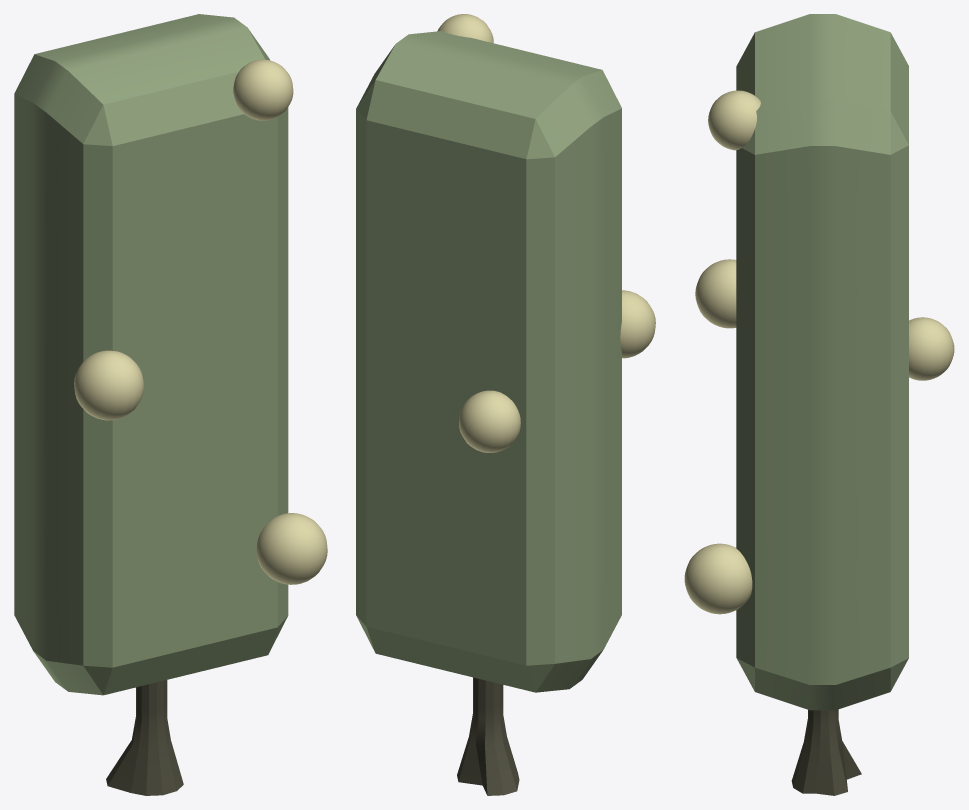
Rendered from HighTree1AppleDark.fbx.
3 renders of one model, left to right at view 1: azimuth 30°, elevation 25°; view 2: azimuth 150°, elevation 25°; view 3: azimuth 270°, elevation 25°, orthographic. The views are drawn at different scales.
Parts seen in each view (by area): view 1: pasted__pasted__Crown_Big, pasted__pasted__Bark, pSphere18, pSphere17, pSphere7; view 2: pasted__pasted__Crown_Big, pasted__pasted__Bark, pSphere16, pSphere17, pSphere7; view 3: pasted__pasted__Crown_Big, pasted__pasted__Bark, pSphere18, pSphere16, pSphere7, pSphere17.
Part boxes in pixels (x1,y1,x2,y2): pasted__pasted__Crown_Big: (14,14,288,695); pasted__pasted__Bark: (106,680,183,795); pSphere18: (256,513,327,584); pSphere17: (74,350,143,420); pSphere7: (233,59,293,120); pasted__pasted__Crown_Big: (356,31,621,692); pasted__pasted__Bark: (457,677,519,795); pSphere16: (459,390,520,452); pSphere17: (620,290,655,358); pSphere7: (437,14,493,43); pasted__pasted__Crown_Big: (736,14,908,710); pasted__pasted__Bark: (791,709,861,795); pSphere18: (684,543,752,614); pSphere16: (909,317,954,380); pSphere7: (708,90,760,150); pSphere17: (695,259,736,328).
Bounding box in the file's own units: 2.35 × 6.94 × 2.34.
